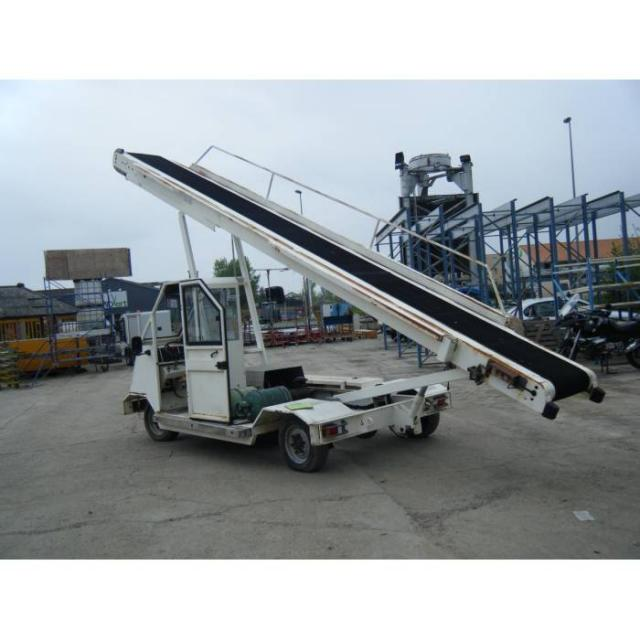Convoyeur: (108, 142, 612, 424)
